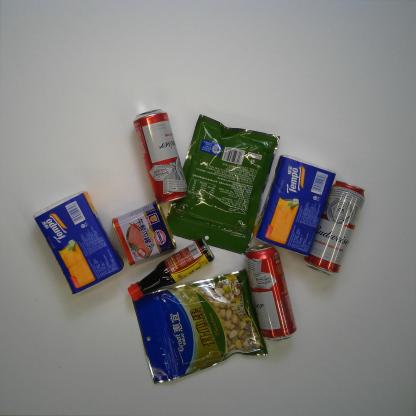Alcohol: (302, 179, 366, 278), (132, 108, 188, 205), (244, 242, 297, 343)
Canned Food: (111, 199, 177, 267)
Dried Fruit: (167, 114, 281, 256), (132, 267, 269, 384)
Seasoner: (127, 238, 216, 302)
Tissue: (32, 190, 124, 295), (253, 154, 337, 258)
